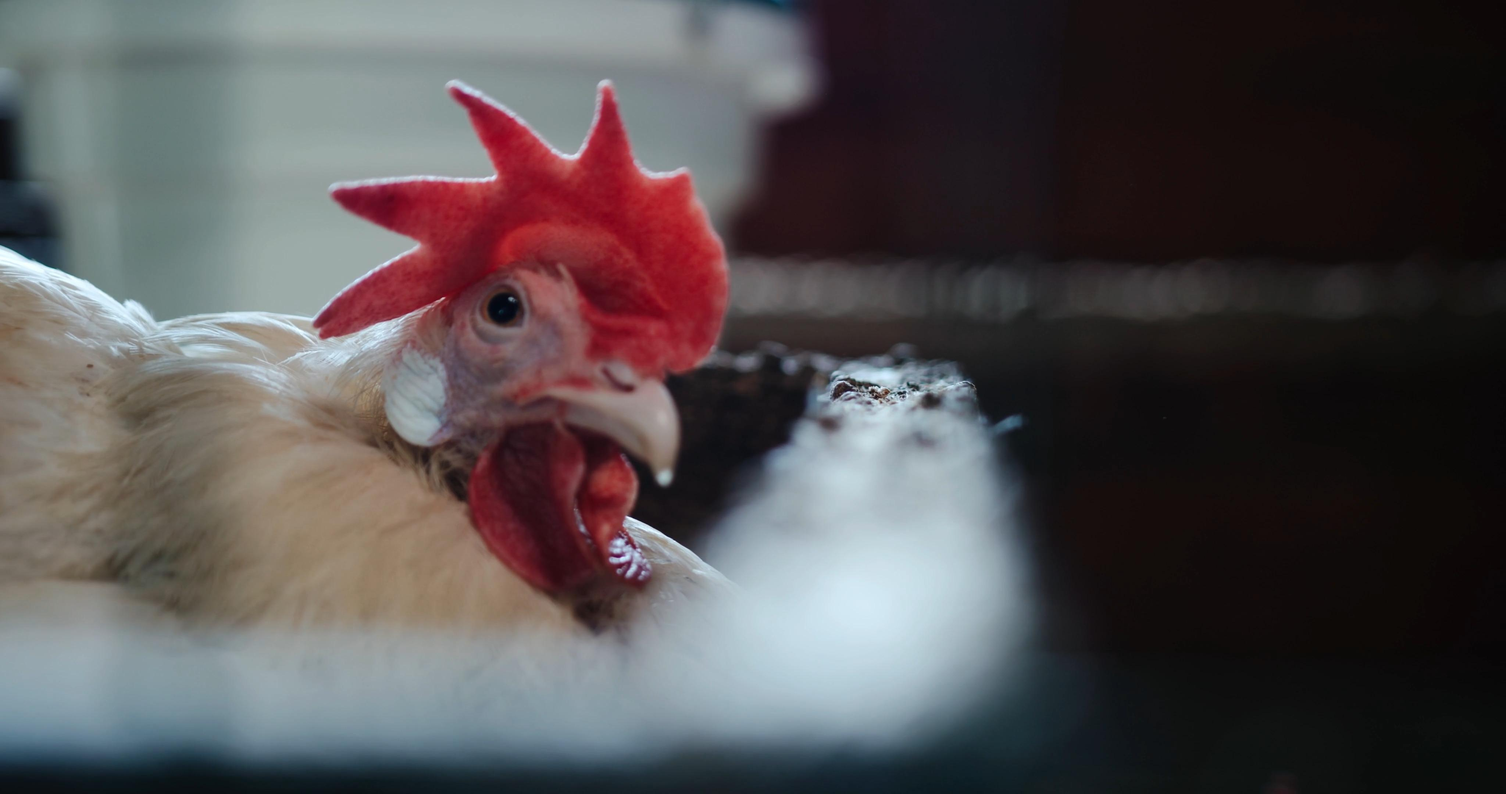Normal: (22, 78, 725, 637)
